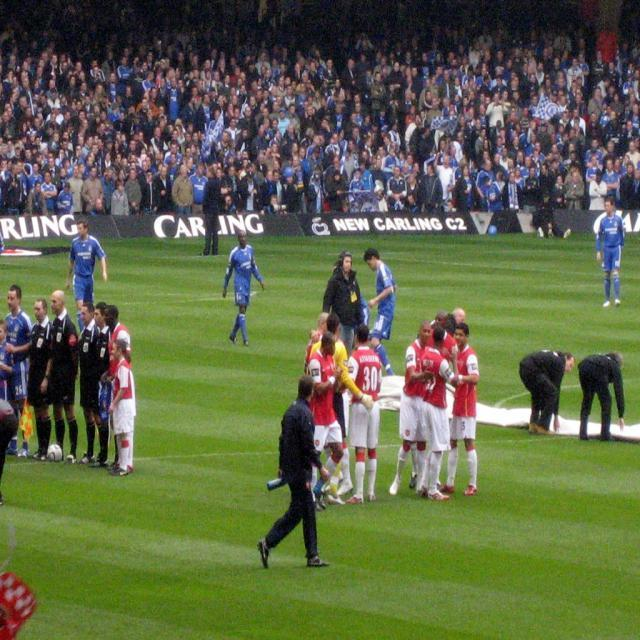ball: (46, 440, 65, 462)
